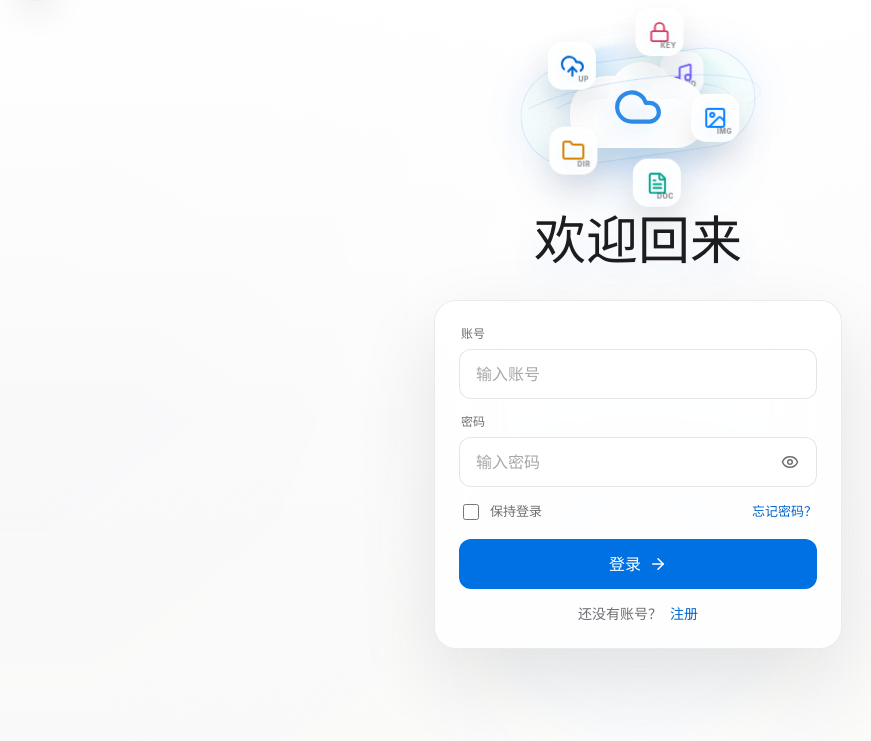
Test: LoginPage › flips to the register form and back to login
Click the button "注册".
click(684, 613)  # box [670, 603, 698, 624]
(page scrolled)
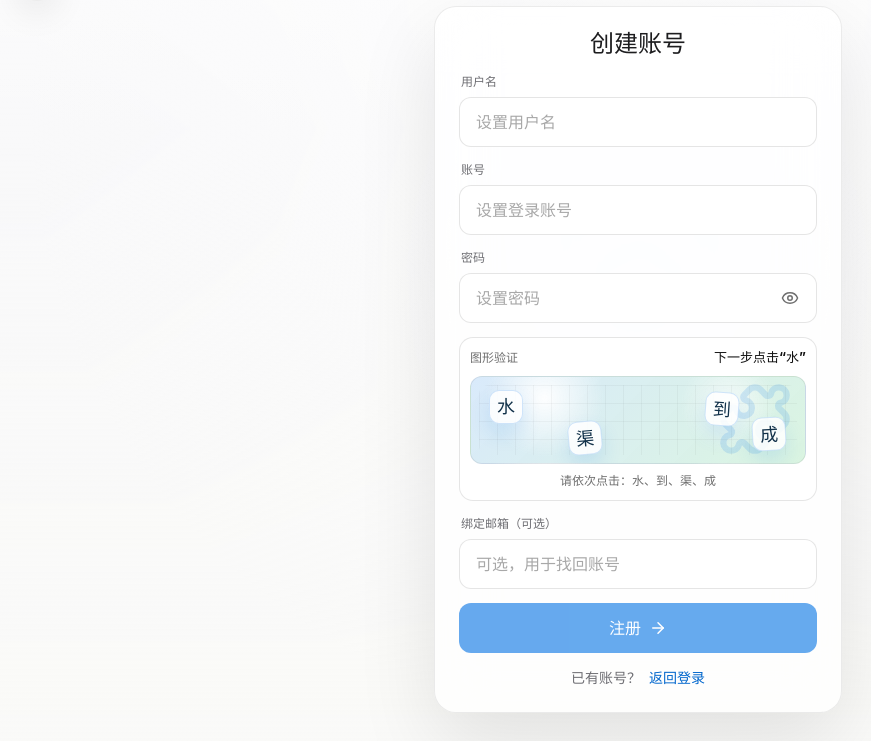
Check: the form named "个人空间注册表单" is shown, box [434, 6, 842, 713]
Check: the field labelled "用户名" is shown, box [459, 98, 817, 148]
Check: the field labelled "绑定邮箱（可选）" is shown, box [459, 539, 817, 589]
Click the button "返回登录".
click(677, 678)  # box [649, 667, 705, 688]
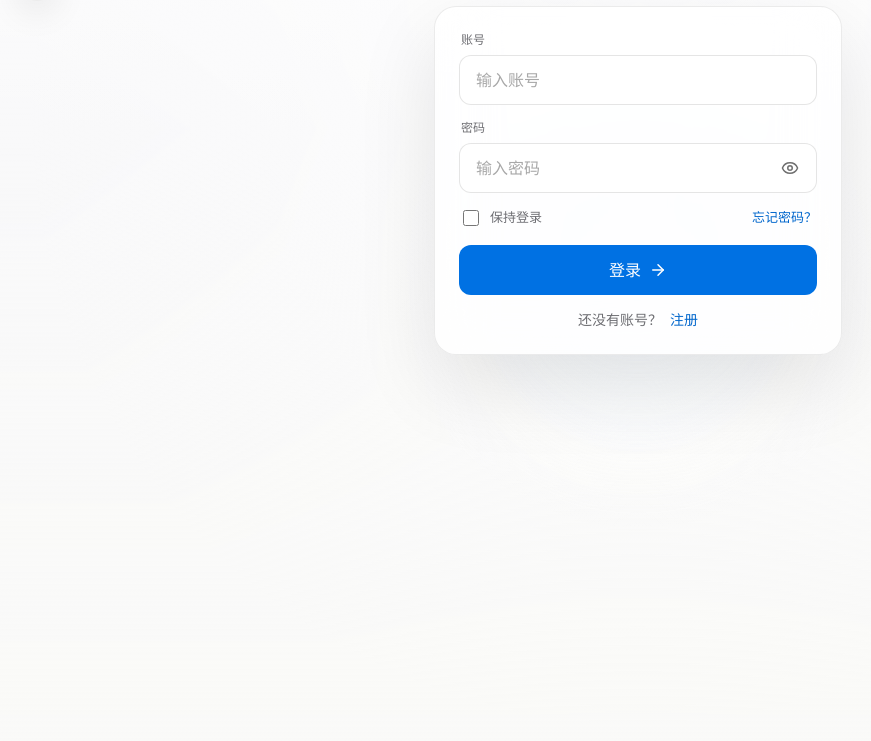
Check: the form named "个人空间登录表单" is shown, box [434, 6, 842, 355]
